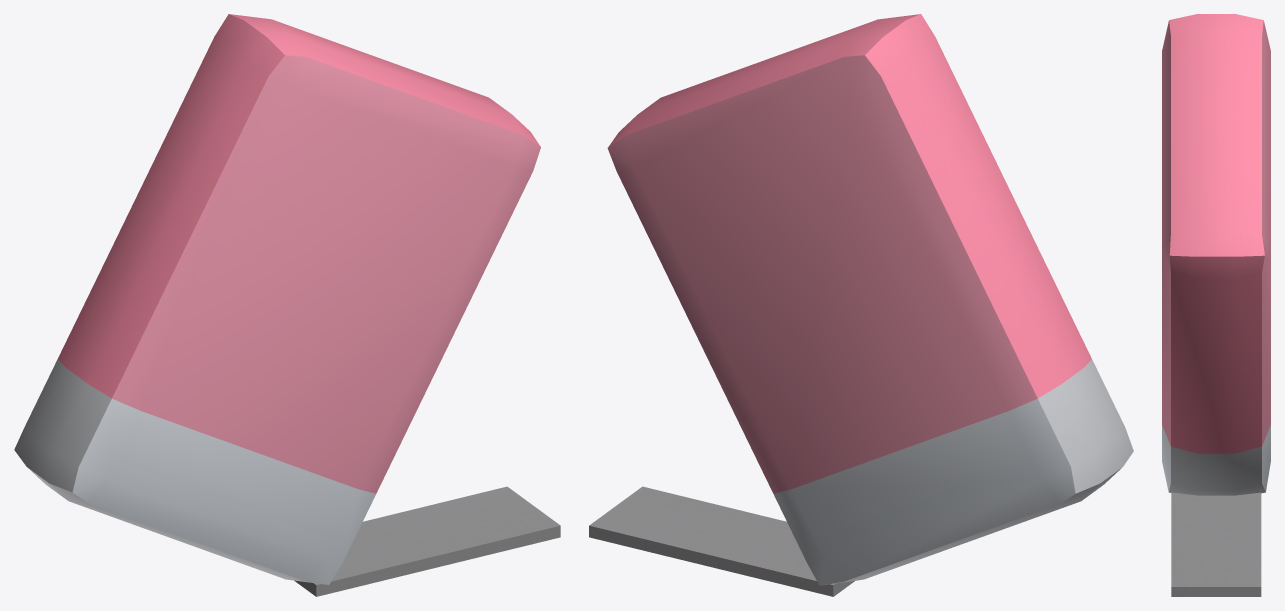
Rendered from SM_Eraser02.fbx.
3 views of the same model, side by side, from view 1: azimuth 30°, elevation 25°; view 2: azimuth 150°, elevation 25°; view 3: azimuth 270°, elevation 25° (orthographic). The views are drawn at different scales.
Parts seen in each view (by area): view 1: SM_Eraser002; view 2: SM_Eraser002; view 3: SM_Eraser002.
Part boxes in pixels (left/top/right/bottom): SM_Eraser002: left=14, top=14, right=560, bottom=596; SM_Eraser002: left=589, top=14, right=1133, bottom=596; SM_Eraser002: left=1162, top=14, right=1270, bottom=596.
Size of the model in its own units: 33.24 by 35.68 by 7.51.
Materials: 1 (1 with a texture image).
